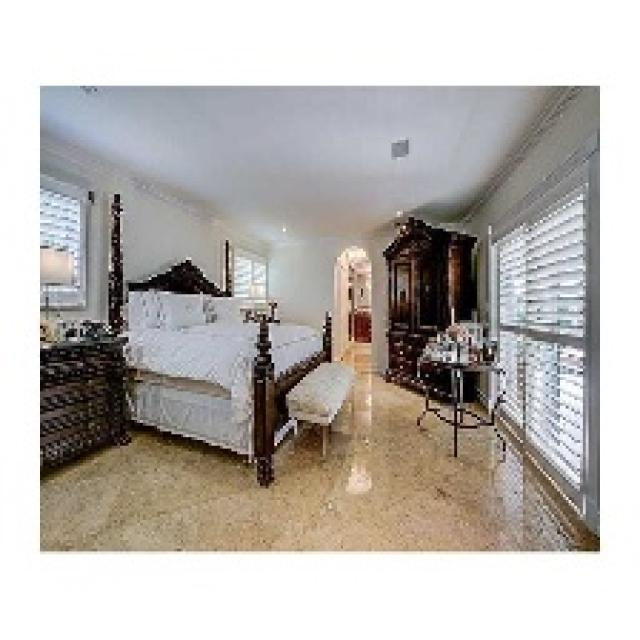Bed: (106, 191, 334, 486)
